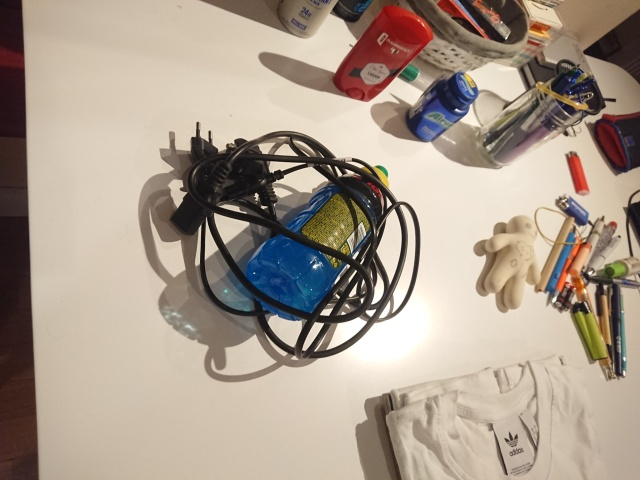Vindi Iso Sport Forest Strawberries 500mL: (244, 163, 392, 323)
